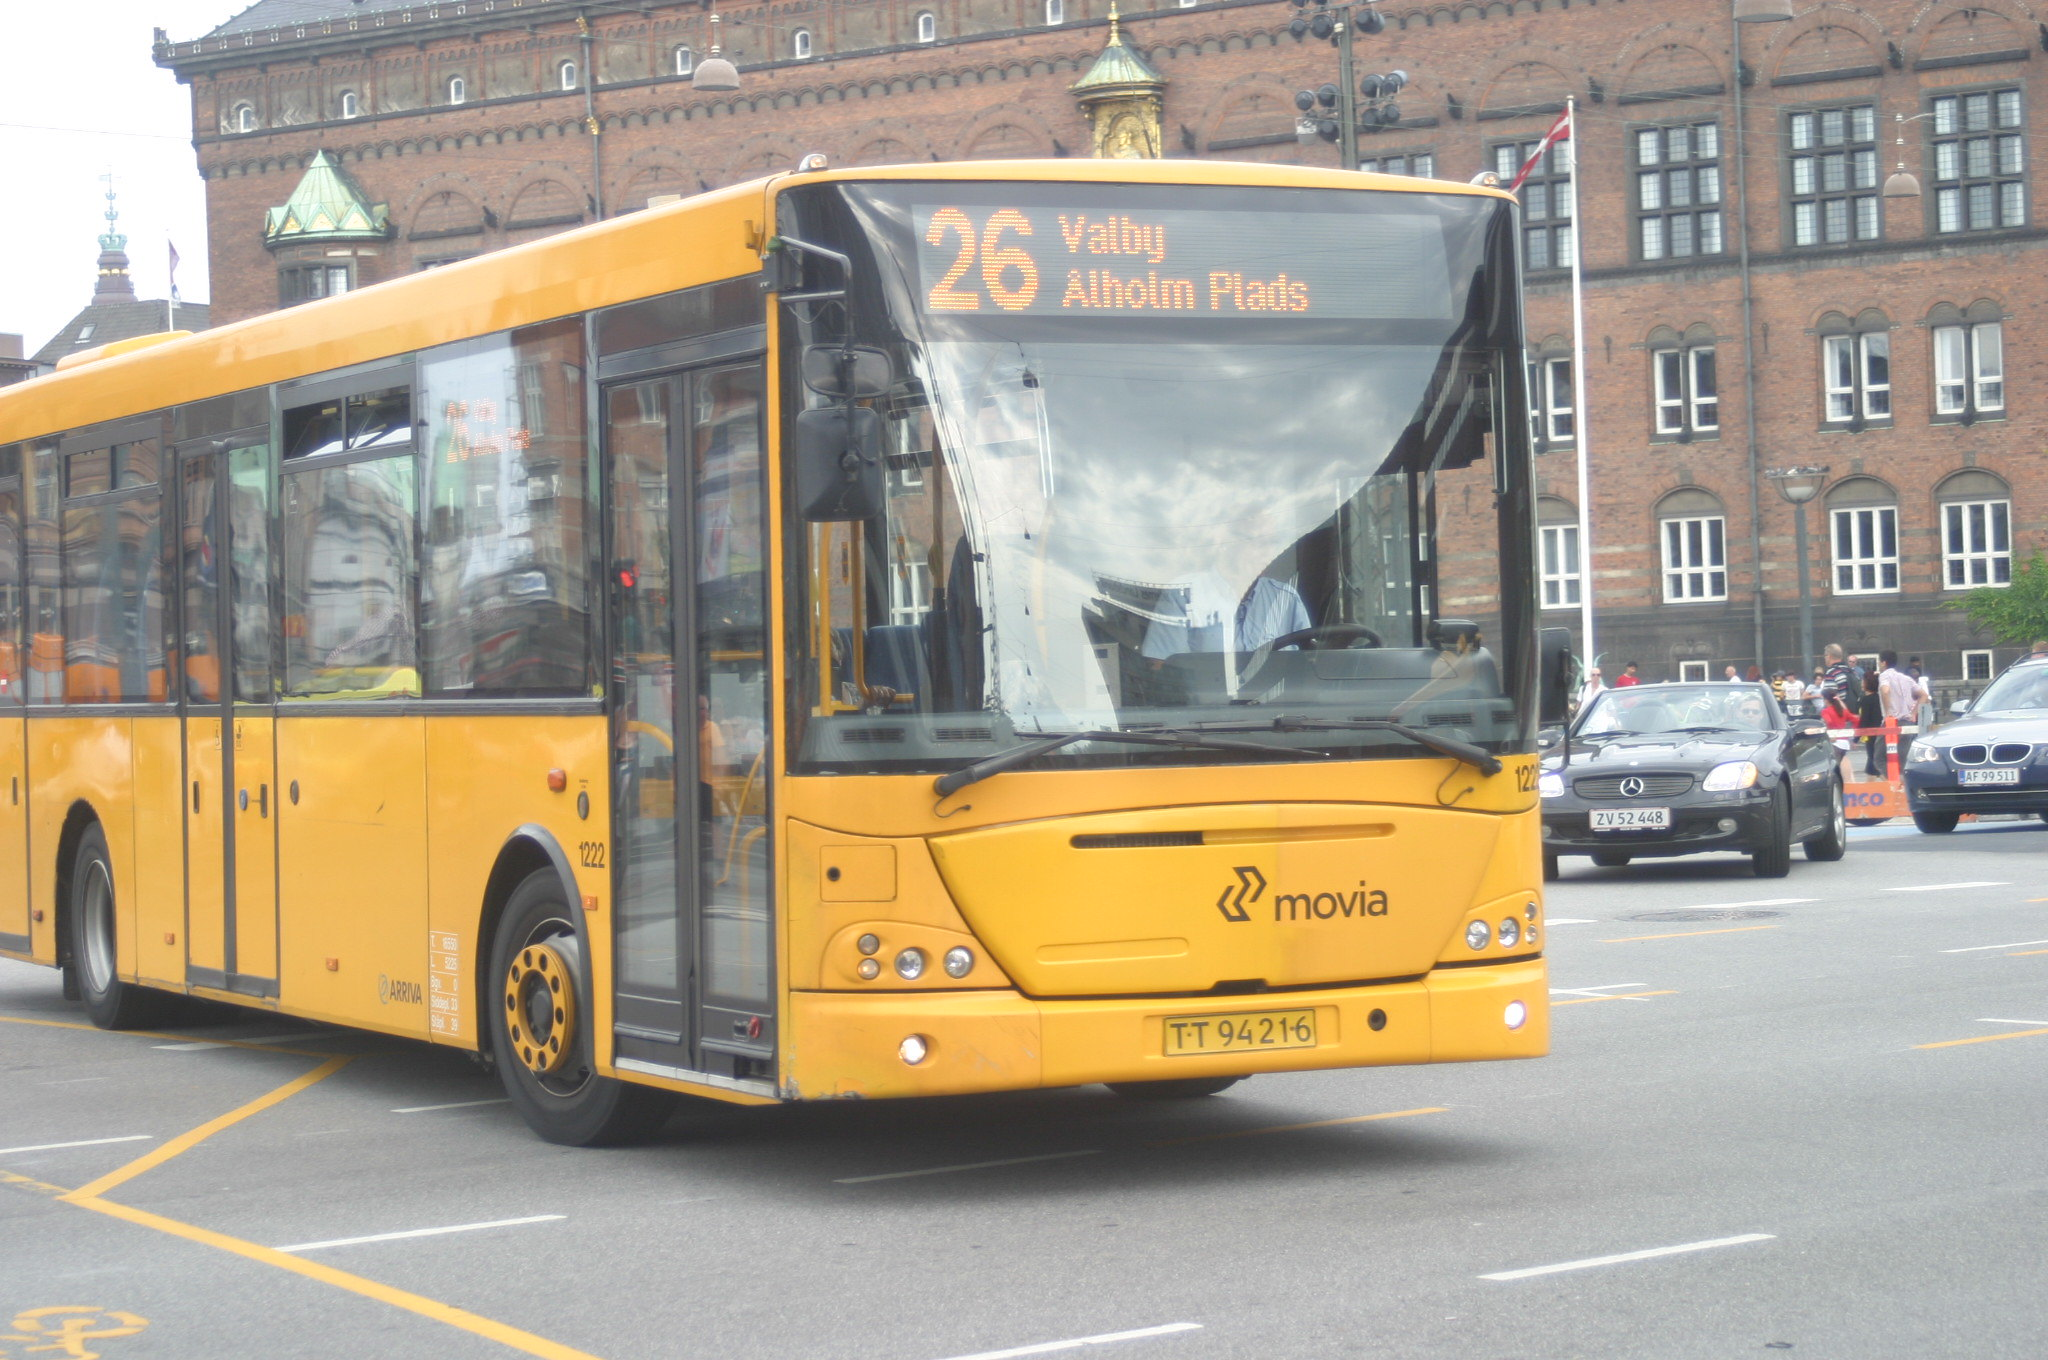bus: (17, 175, 1552, 1079)
car: (1546, 668, 1863, 912)
